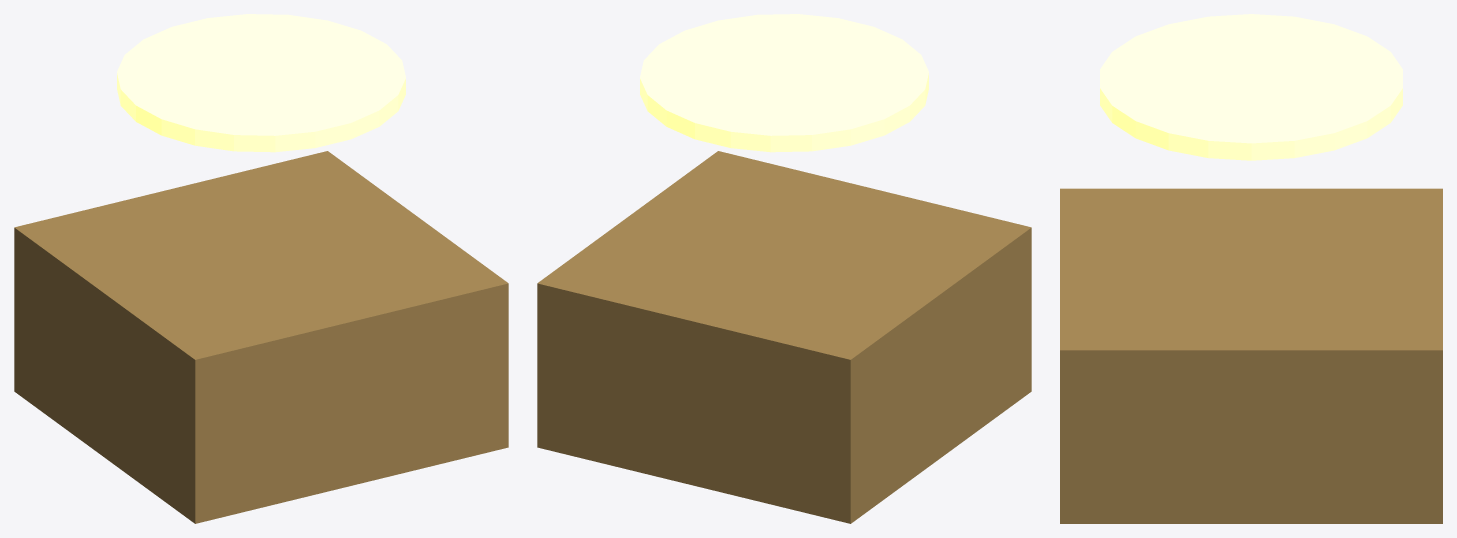
The model's file is TimedPulse_Half.glb.
The picture shows the model from 3 angles, left to right: view 1: azimuth 30°, elevation 25°; view 2: azimuth 150°, elevation 25°; view 3: azimuth 270°, elevation 25°; orthographic projection. The views are drawn at different scales.
Parts seen in each view (by area): view 1: TimedPulse_Half_body, glow_disc.006; view 2: TimedPulse_Half_body, glow_disc.006; view 3: TimedPulse_Half_body, glow_disc.006.
Part boxes in pixels (box(x1,y1,x2,y2)): TimedPulse_Half_body: box(14, 151, 508, 523); glow_disc.006: box(117, 14, 405, 152); TimedPulse_Half_body: box(537, 151, 1031, 523); glow_disc.006: box(640, 14, 928, 152); TimedPulse_Half_body: box(1060, 188, 1442, 523); glow_disc.006: box(1100, 14, 1402, 160).
Bounding box in the file's own units: 1 × 1.05 × 1.
